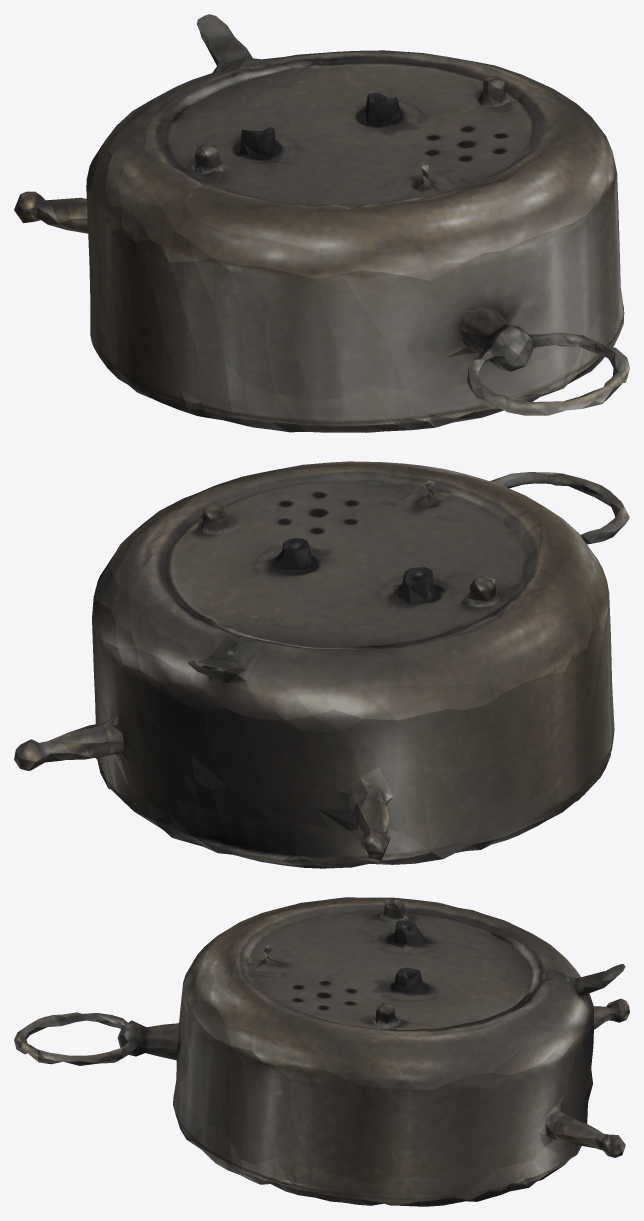
The picture shows the model from 3 angles, top to bottom: view 1: azimuth 30°, elevation 25°; view 2: azimuth 150°, elevation 25°; view 3: azimuth 270°, elevation 25°; orthographic projection. The views are drawn at different scales.
Bounding box in the file's own units: 0.1095 × 0.0538 × 0.1625.
1 material, 1 textured.
